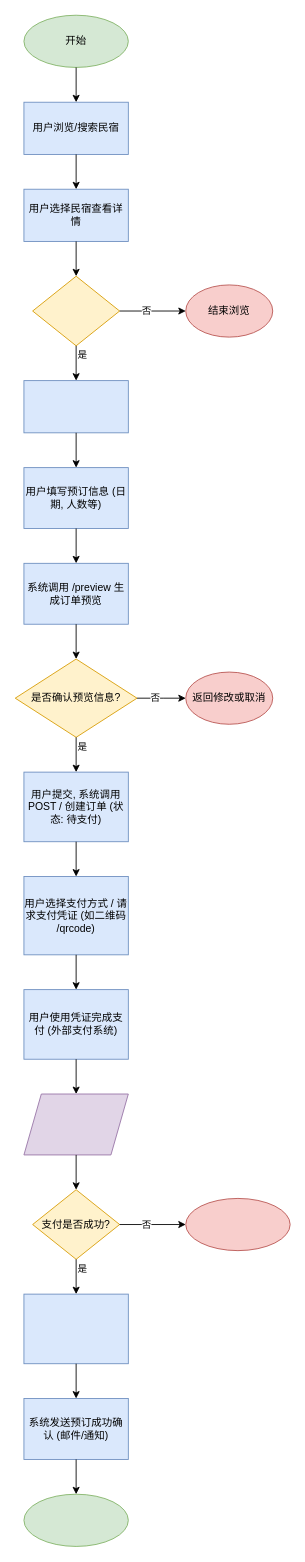
The diagram is 305 pixels wide and 1562 high, and some of its shapes have lost their labels. Each missing label, with the box of its shape:
支付失败 / 订单待支付: (185, 1198, 290, 1251)
支付系统回调 / 前端轮询 /payment/status: (23, 1093, 128, 1155)
是否预订?: (32, 275, 120, 346)
系统调用 /pay (或内部逻辑) 更新订单状态 (已支付): (23, 1293, 128, 1364)
进入订单预览/创建页面: (23, 380, 128, 433)
预订成功: (23, 1493, 128, 1546)
